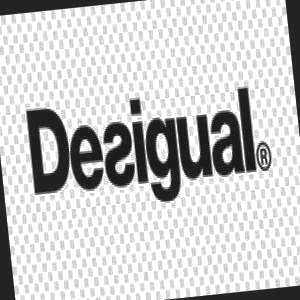desigual: (267, 38, 286, 112)
